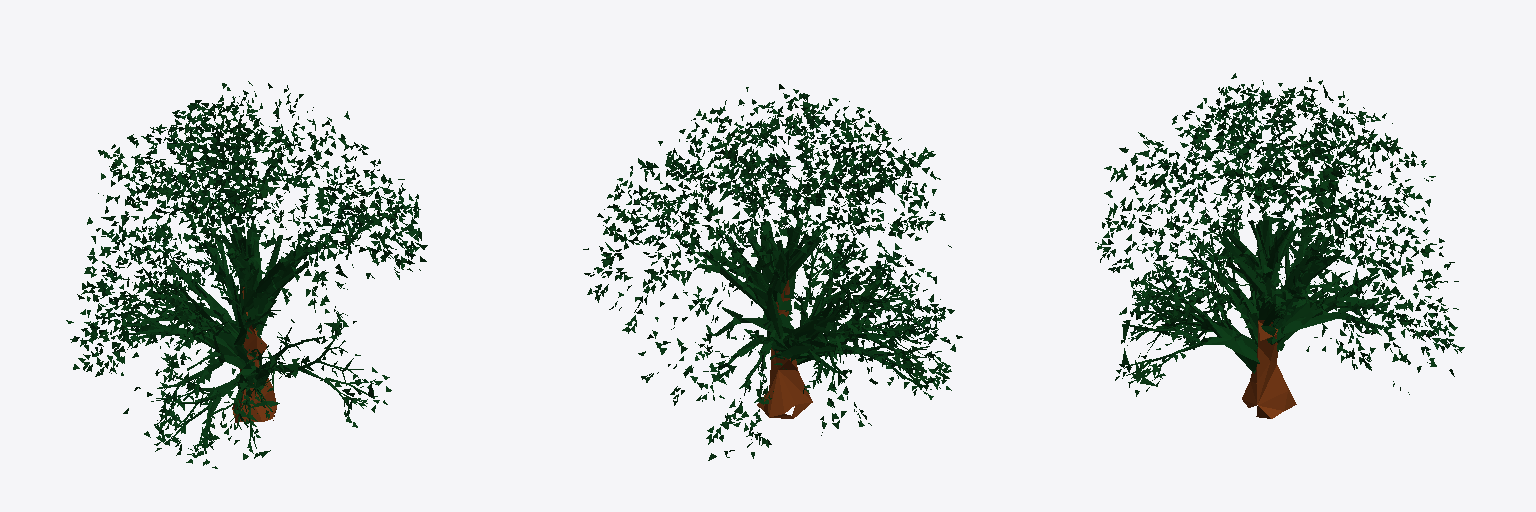
File: tree.obj
The picture shows the model from 3 angles: view 1: azimuth 30°, elevation 25°; view 2: azimuth 150°, elevation 25°; view 3: azimuth 270°, elevation 25°; orthographic projection.
Visible parts, largest first — view 1: tree_1; view 2: tree_1; view 3: tree_1.
Boxes of the visible parts, x1=… form: tree_1: x1=66, y1=81, x2=427, y2=468; tree_1: x1=583, y1=84, x2=962, y2=460; tree_1: x1=1095, y1=73, x2=1464, y2=418.
Bounding box in the file's own units: 4.81 × 4.5 × 4.73.